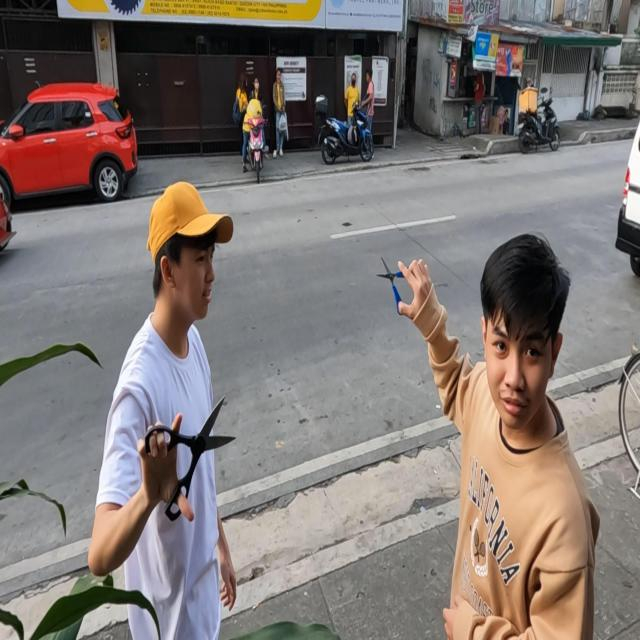scissor: (145, 394, 236, 522), (376, 256, 415, 316)
